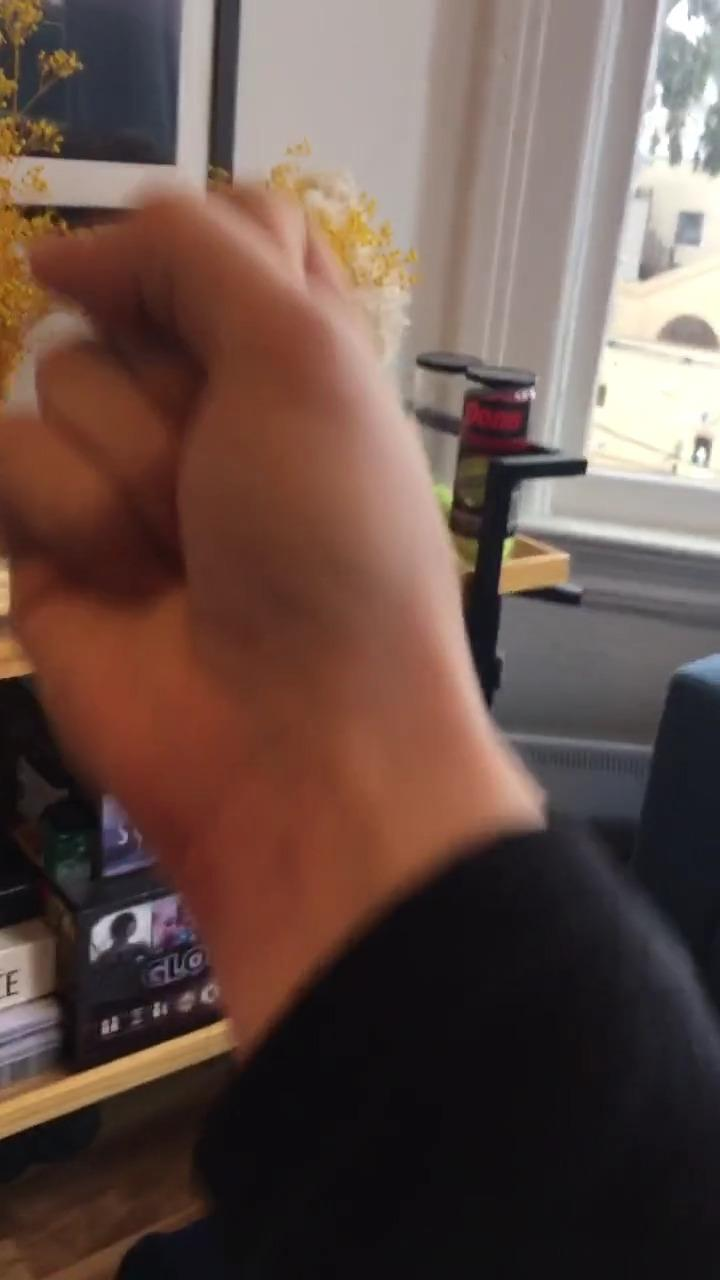Rock: (0, 178, 465, 852)
